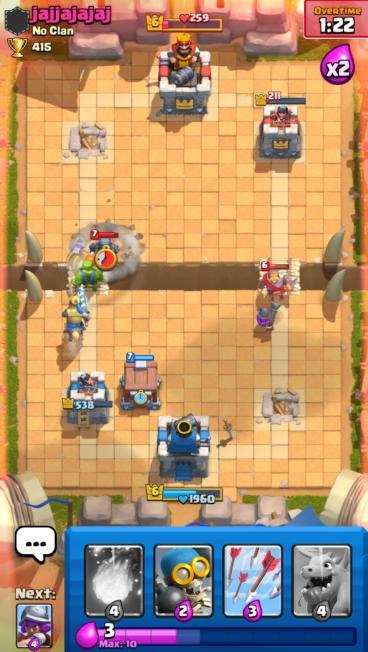ally_brawler: (68, 258, 108, 299)
ally_goblin_cage: (117, 350, 166, 411)
ally_musketeer: (251, 295, 283, 340)
ally_prince: (60, 282, 92, 342)
enemy_knight: (256, 261, 299, 303)
enemy_mini_pekka: (87, 228, 122, 266)
